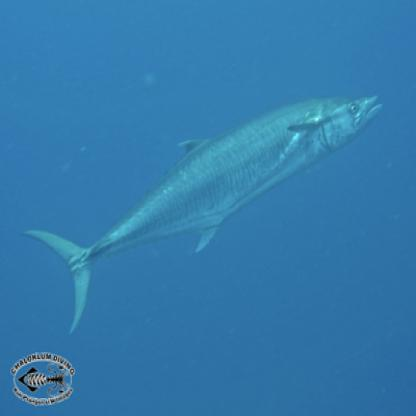tuna: (16, 91, 391, 341)
